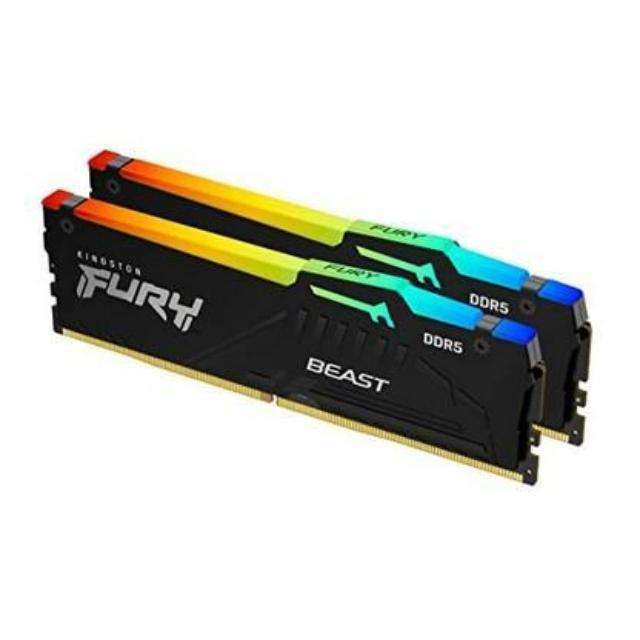RAM: (14, 136, 600, 501)
